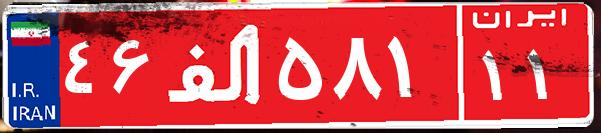1: (385, 28, 445, 110), (475, 38, 525, 113), (525, 38, 570, 115)
4: (57, 26, 110, 107)
5: (273, 28, 330, 110)
6: (110, 28, 158, 105)
8: (330, 28, 385, 110)
الف: (158, 15, 273, 115)
